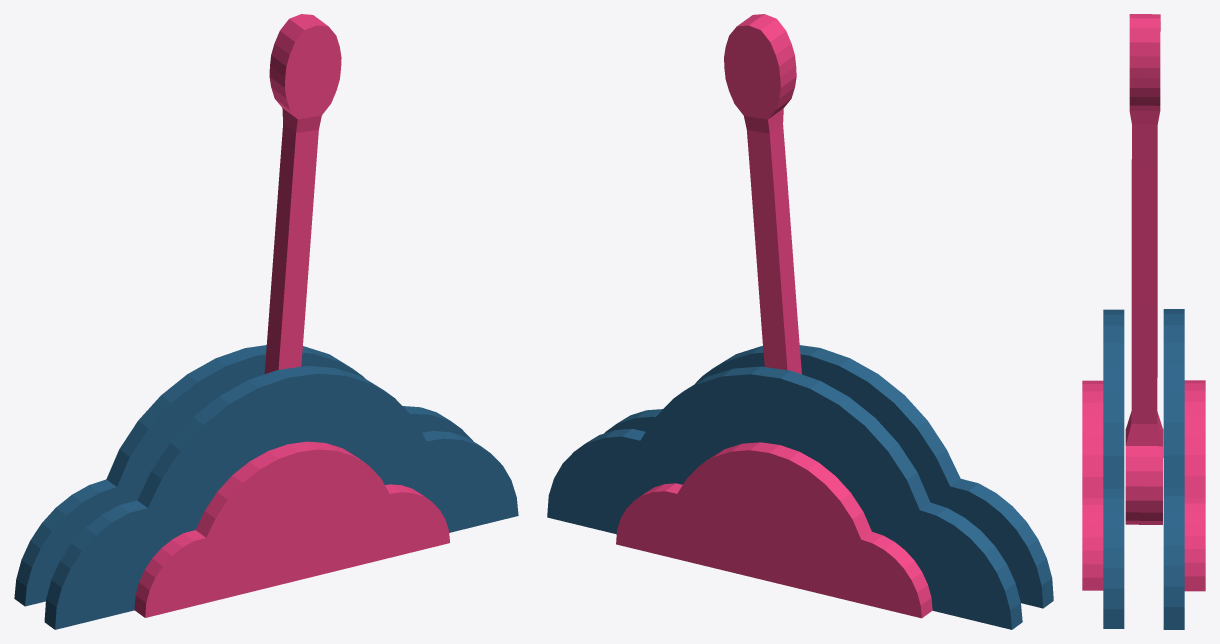
File: lever.fbx
3 renders of one model, left to right at view 1: azimuth 30°, elevation 25°; view 2: azimuth 150°, elevation 25°; view 3: azimuth 270°, elevation 25°, orthographic.
Visible parts, largest first — view 1: Circle.001; view 2: Circle.001; view 3: Circle.001.
Boxes of the visible parts, left/top/right/bottom form: Circle.001: left=14, top=14, right=518, bottom=629; Circle.001: left=547, top=14, right=1053, bottom=629; Circle.001: left=1082, top=14, right=1205, bottom=629.
Size of the model in its own units: 498 by 542 by 117.
